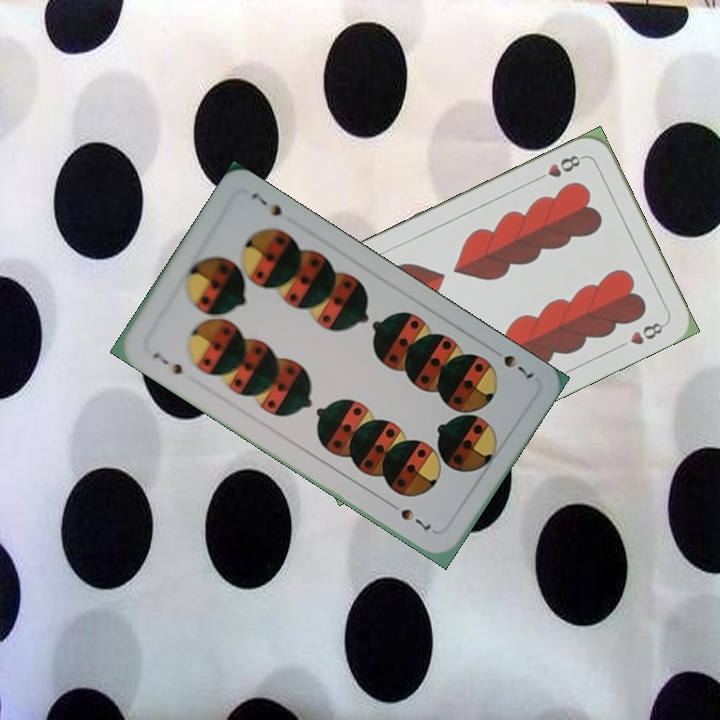H8: (531, 150, 587, 184)
S7: (499, 350, 537, 381), (148, 348, 185, 377)
